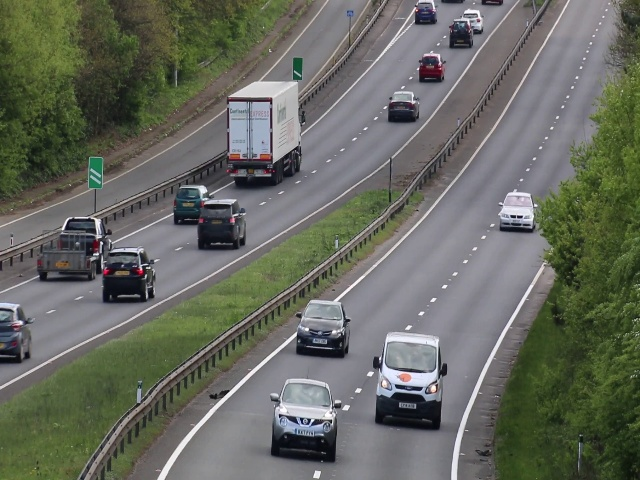car: (223, 81, 304, 190), (372, 330, 447, 428), (269, 378, 340, 465), (295, 296, 349, 358), (104, 247, 158, 304), (199, 199, 245, 253), (1, 302, 32, 362), (500, 190, 535, 233), (63, 212, 104, 239), (389, 90, 421, 122), (173, 181, 195, 226), (418, 52, 445, 83), (449, 18, 472, 48), (413, 1, 438, 25)
